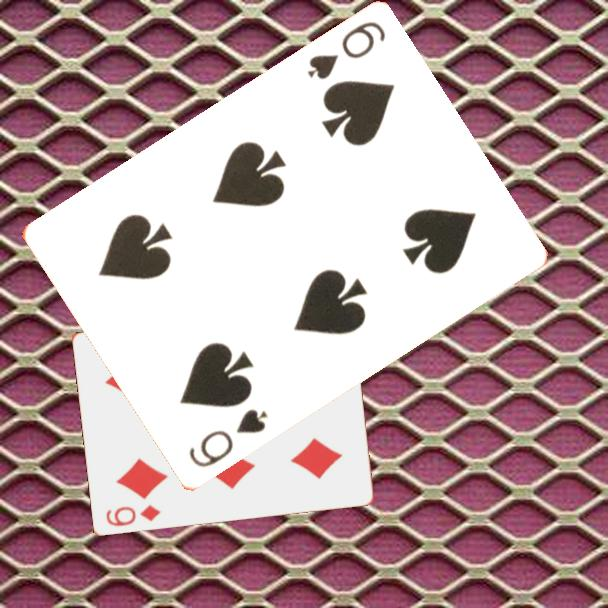d06: (103, 501, 164, 529)
s06: (303, 18, 389, 84), (185, 406, 271, 471)
